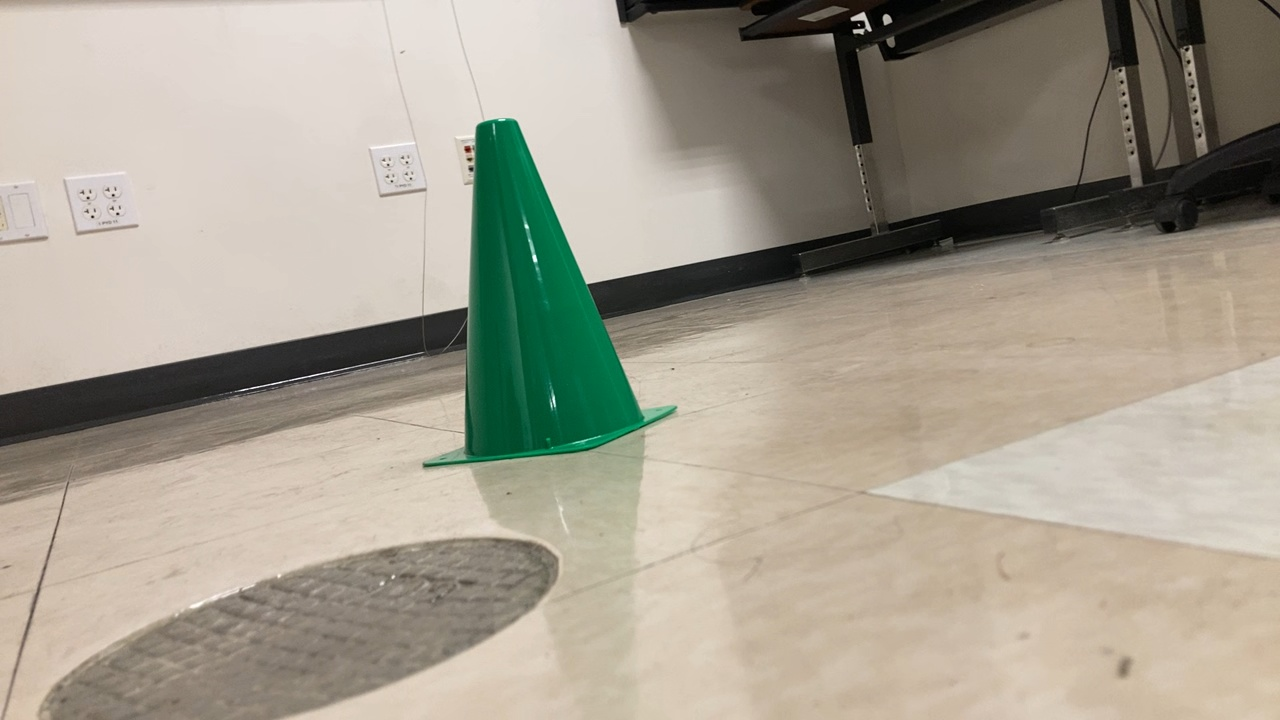green_cone: (415, 115, 679, 467)
